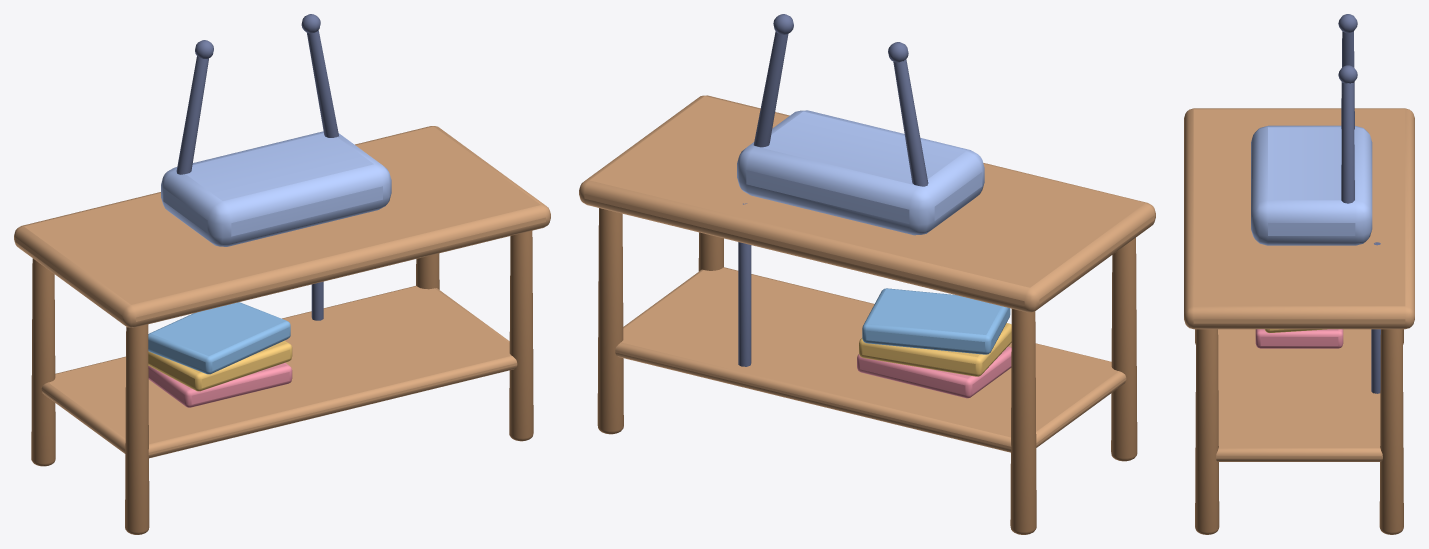
Rendered from routertable.glb.
3 views of the same model, side by side, from view 1: azimuth 30°, elevation 25°; view 2: azimuth 150°, elevation 25°; view 3: azimuth 270°, elevation 25° (orthographic). The views are drawn at different scales.
Visible parts, largest first — view 1: cd8a77d, router, cb88a62, book_2, c6f7aa0, book_0, book_1; view 2: cd8a77d, router, cb88a62, book_2, c6f7aa0, book_0, book_1; view 3: cd8a77d, router, cb88a62, c6f7aa0, book_0.
Part boxes in pixels (bbox=[...]): cd8a77d: bbox=[14, 126, 550, 458]; router: bbox=[161, 131, 391, 246]; cb88a62: bbox=[31, 231, 533, 534]; book_2: bbox=[148, 302, 290, 374]; c6f7aa0: bbox=[176, 14, 338, 320]; book_0: bbox=[148, 362, 292, 407]; book_1: bbox=[148, 340, 292, 391]; cd8a77d: bbox=[579, 95, 1155, 452]; router: bbox=[737, 110, 984, 235]; cb88a62: bbox=[597, 208, 1137, 534]; book_2: bbox=[862, 288, 1010, 354]; c6f7aa0: bbox=[738, 14, 928, 366]; book_0: bbox=[857, 346, 1011, 398]; book_1: bbox=[859, 323, 1011, 376]; cd8a77d: bbox=[1184, 108, 1414, 461]; router: bbox=[1251, 125, 1372, 245]; cb88a62: bbox=[1195, 329, 1403, 534]; c6f7aa0: bbox=[1338, 14, 1380, 393]; book_0: bbox=[1255, 329, 1343, 348].
Bounding box in the file's own units: 2 × 1.81 × 0.95.
